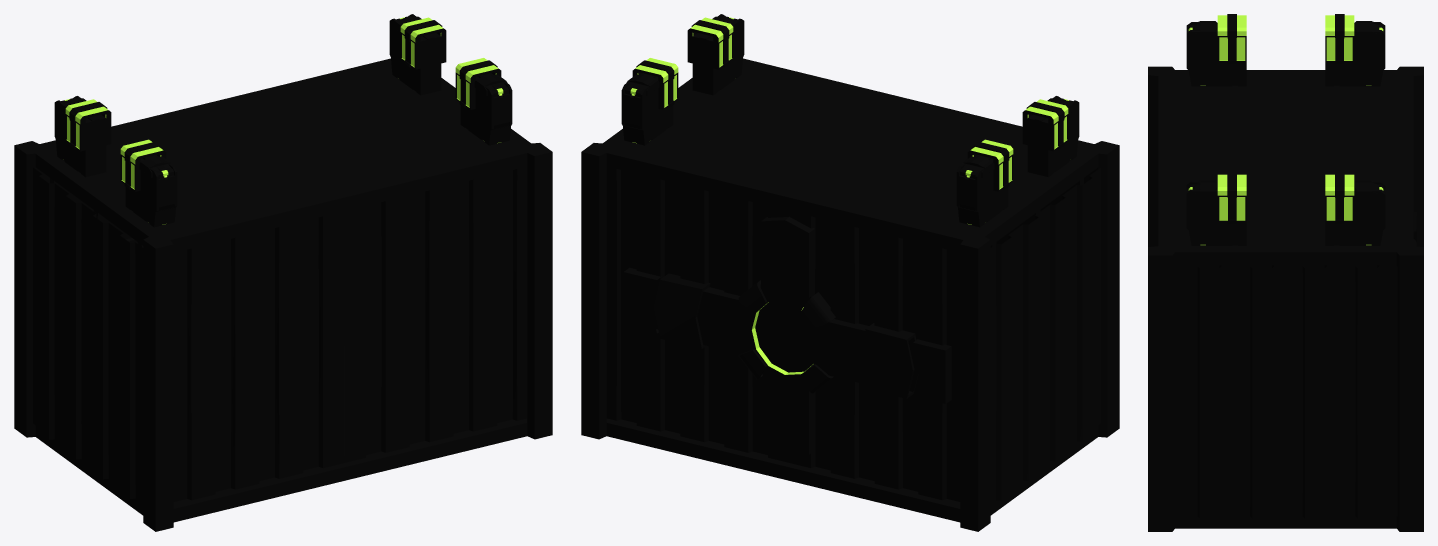
File: Container_Yellow.fbx
3 views of the same model, side by side, from view 1: azimuth 30°, elevation 25°; view 2: azimuth 150°, elevation 25°; view 3: azimuth 270°, elevation 25° (orthographic). The views are drawn at different scales.
Parts seen in each view (by area): view 1: Container_Back_MAT01_0.003, Container_Yellow, Container_Back_MAT01_0.004, mod_gabenette.002; view 2: Container_Yellow, Container_Back_MAT01_0.003, Container_Back_MAT01_0.004, Arm_Container_Support.001, mod_gabenette.002, Arm_Container_Support.005, Arm_Container_Support.004; view 3: Container_Yellow, Container_Back_MAT01_0.004, mod_gabenette.002.
Boxes of the visible parts, bbox=[...] form: Container_Back_MAT01_0.003: bbox=[35, 166, 527, 501]; Container_Yellow: bbox=[14, 58, 552, 531]; Container_Back_MAT01_0.004: bbox=[33, 167, 143, 503]; mod_gabenette.002: bbox=[54, 14, 512, 227]; Container_Yellow: bbox=[581, 58, 1119, 531]; Container_Back_MAT01_0.003: bbox=[606, 166, 1098, 501]; Container_Back_MAT01_0.004: bbox=[990, 167, 1100, 503]; Arm_Container_Support.001: bbox=[623, 216, 951, 455]; mod_gabenette.002: bbox=[621, 14, 1079, 227]; Arm_Container_Support.005: bbox=[654, 273, 918, 398]; Arm_Container_Support.004: bbox=[738, 280, 835, 393]; Container_Yellow: bbox=[1148, 66, 1423, 531]; Container_Back_MAT01_0.004: bbox=[1174, 265, 1397, 518]; mod_gabenette.002: bbox=[1186, 14, 1385, 245].
Size of the model in its own units: 308 by 256 by 190.
